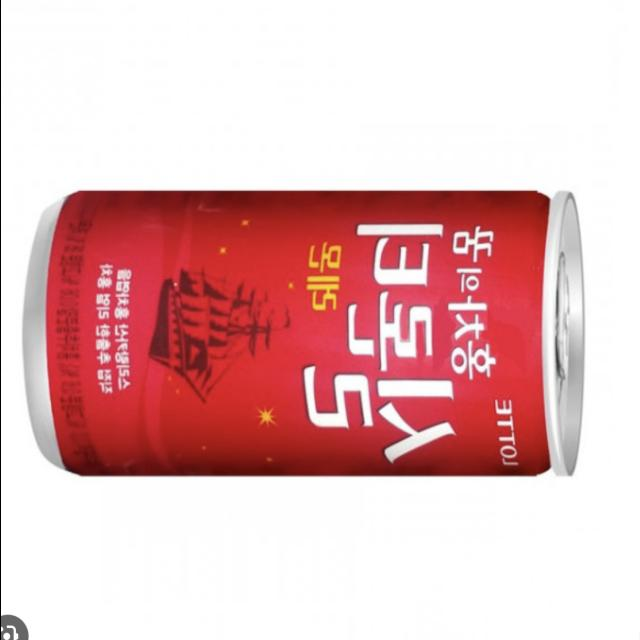can: (15, 171, 592, 500)
